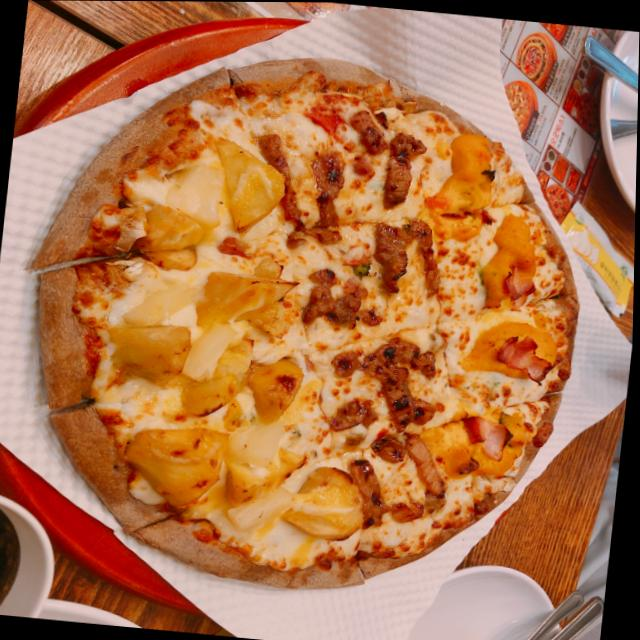pizza: (0, 32, 604, 612)
